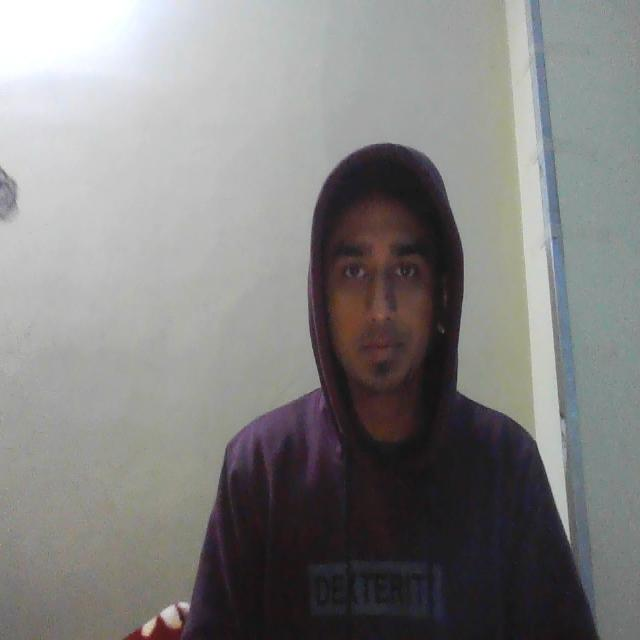real: (302, 123, 466, 432)
